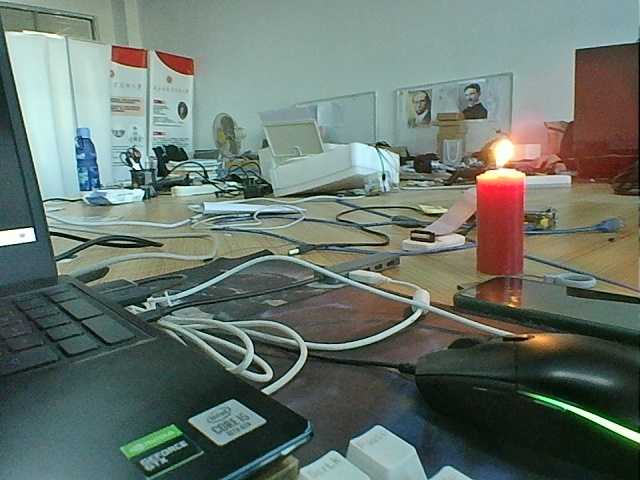candle: (473, 174, 537, 278)
fire: (482, 136, 529, 174)
